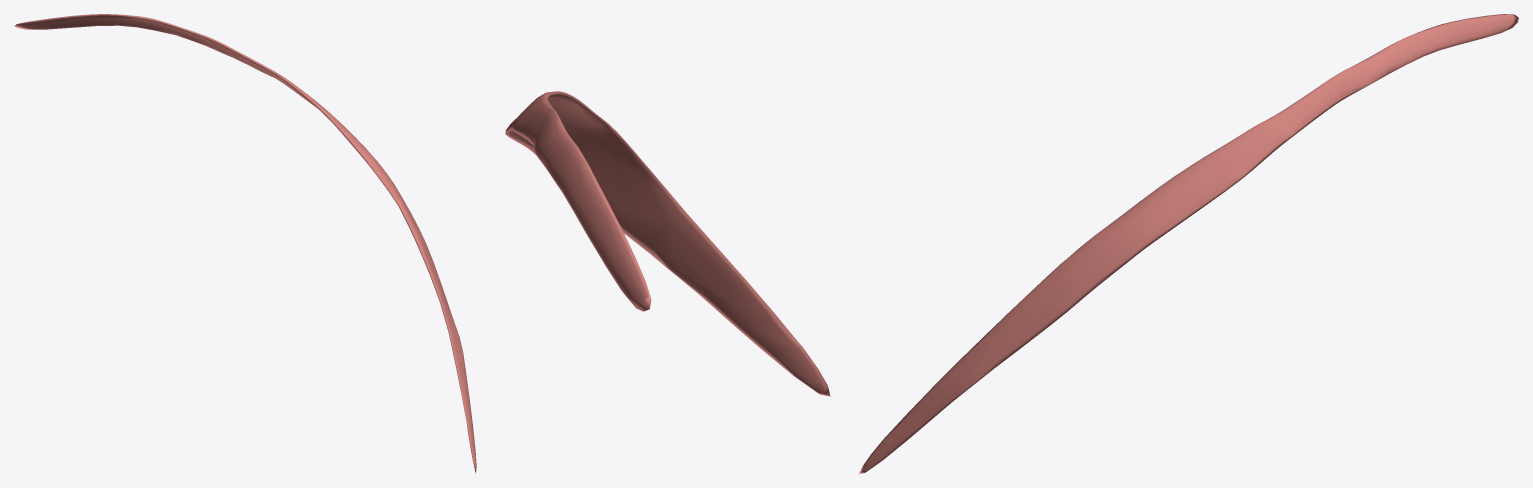
The picture shows the model from 3 angles, left to right: view 1: azimuth 30°, elevation 25°; view 2: azimuth 150°, elevation 25°; view 3: azimuth 270°, elevation 25°; orthographic projection. The views are drawn at different scales.
Parts seen in each view (by area): view 1: ZA_48f2655240c8b151; view 2: ZA_48f2655240c8b151; view 3: ZA_48f2655240c8b151.
Boxes of the visible parts, x1,y1,x2,y2 form: ZA_48f2655240c8b151: (14,14,476,473); ZA_48f2655240c8b151: (505,91,830,396); ZA_48f2655240c8b151: (859,14,1518,473).
Bounding box in the file's own units: 0.0418 × 0.0562 × 0.0893.
